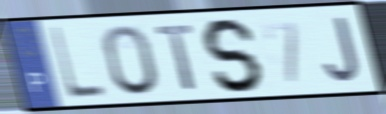7: (262, 20, 301, 85)
J: (323, 15, 363, 85)
L: (47, 24, 108, 102)
O: (100, 22, 162, 97)
S: (201, 15, 265, 94)
T: (153, 22, 199, 92)
